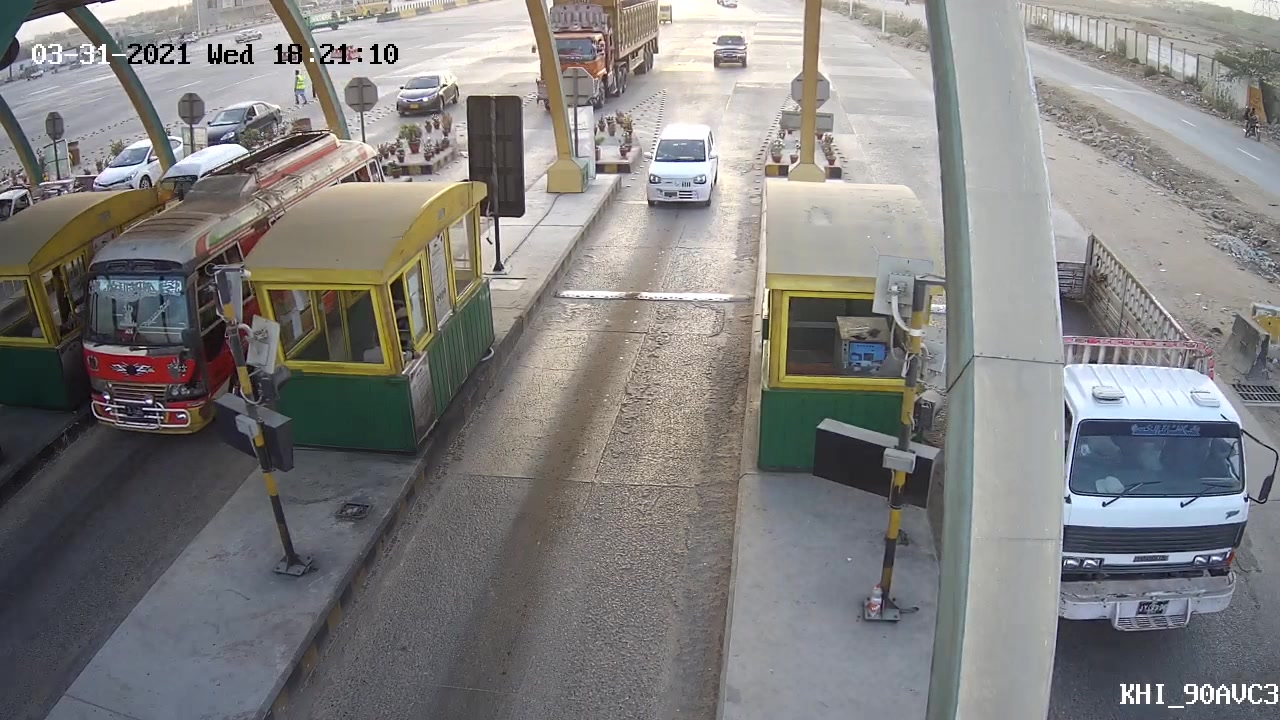F1: (632, 121, 721, 218)
